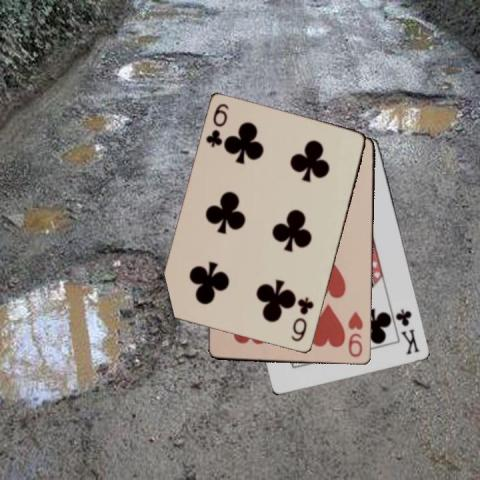6c: (202, 101, 230, 149), (288, 295, 315, 343)
9h: (345, 309, 365, 359)
Kc: (394, 306, 421, 356)
